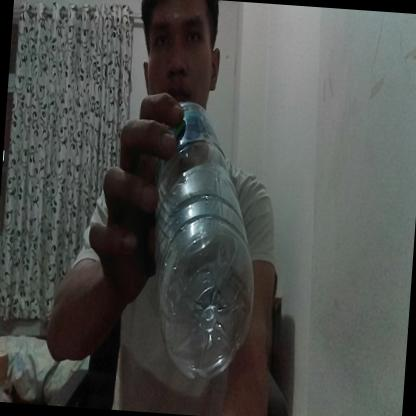plastic_bottles: (141, 96, 266, 384)
